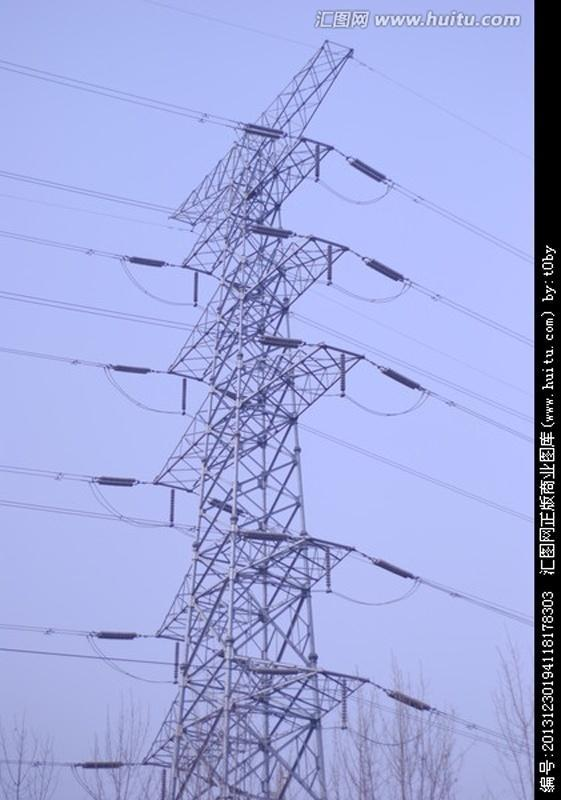power_tower: (71, 36, 437, 799)
